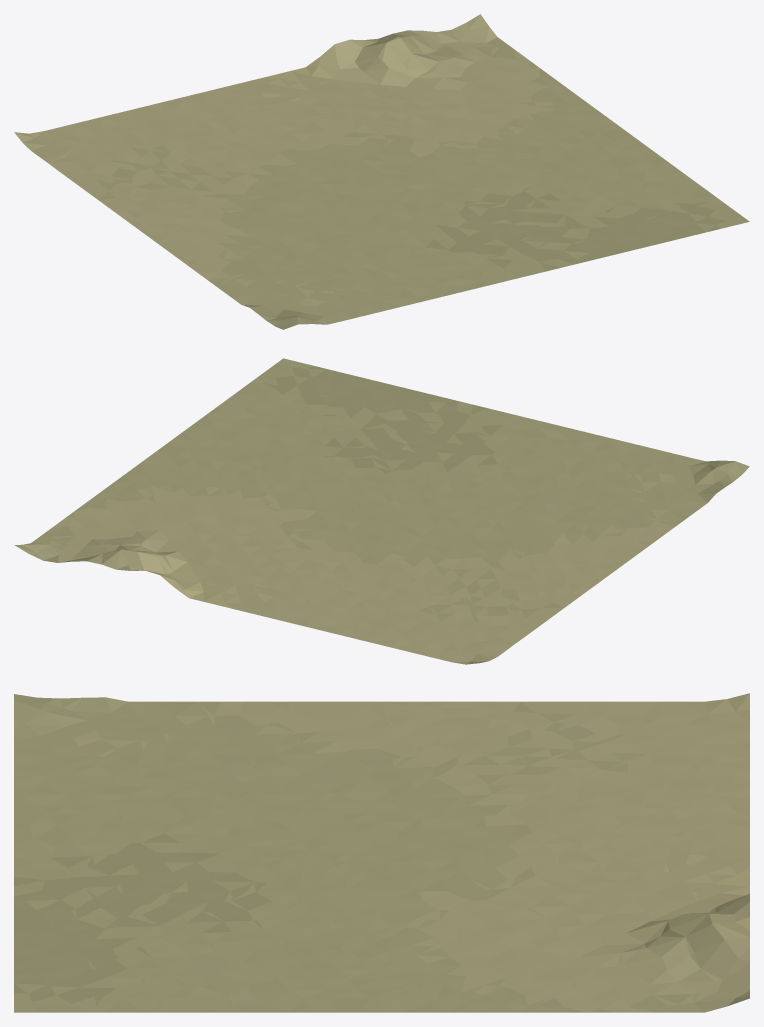
File: Ground_-3_-6.glb
3 views of the same model, one above another, from view 1: azimuth 30°, elevation 25°; view 2: azimuth 150°, elevation 25°; view 3: azimuth 270°, elevation 25° (orthographic). The views are drawn at different scales.
Parts seen in each view (by area): view 1: Ground_-3_-6; view 2: Ground_-3_-6; view 3: Ground_-3_-6.
Boxes of the visible parts, box(x1,y1,x2,y2) form: Ground_-3_-6: box(14, 14, 749, 329); Ground_-3_-6: box(14, 358, 749, 664); Ground_-3_-6: box(14, 693, 749, 1012).
Size of the model in its own units: 768 by 30.68 by 768.
